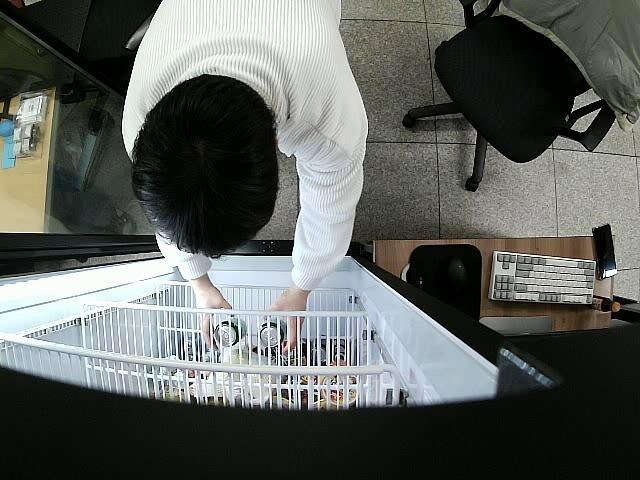12_chilsungCider: (215, 316, 248, 348), (260, 318, 286, 347)
